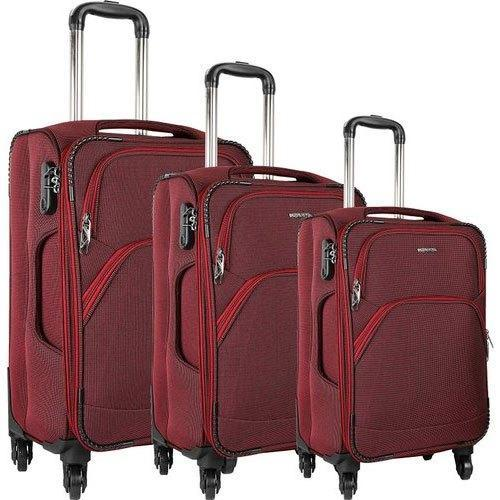suitcase: (0, 113, 257, 461), (145, 161, 370, 471), (292, 201, 490, 469)
